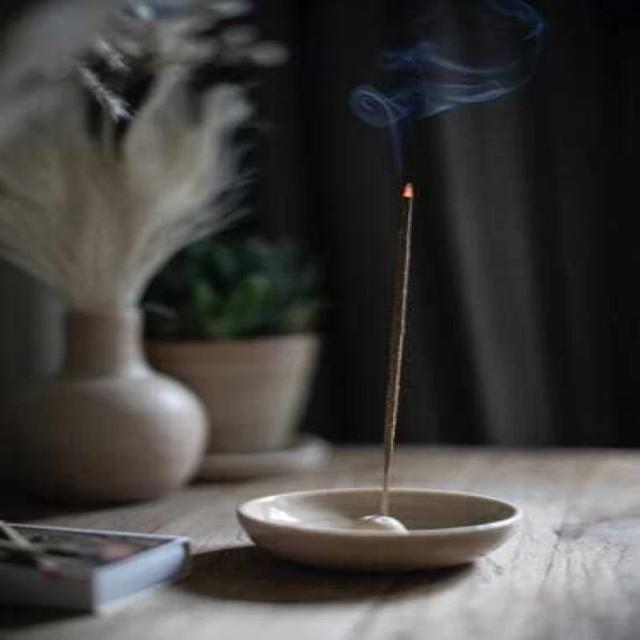Agarbatti: (359, 164, 496, 517)
